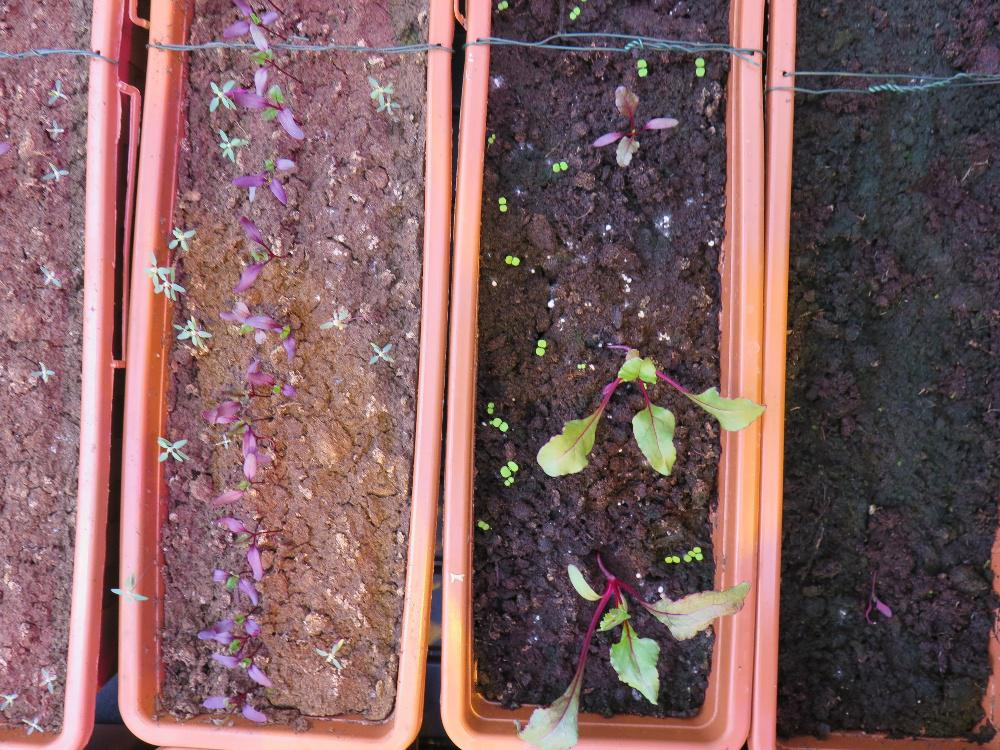weed: (105, 568, 149, 603), (216, 125, 249, 167), (153, 433, 191, 466), (312, 636, 346, 671), (165, 221, 197, 253), (40, 75, 69, 105), (317, 304, 349, 331), (38, 156, 70, 183), (33, 662, 58, 694), (365, 339, 393, 366), (25, 359, 55, 383), (37, 261, 62, 288), (18, 713, 43, 739), (41, 117, 65, 140), (635, 55, 648, 78), (534, 336, 547, 358), (693, 54, 705, 77), (550, 158, 567, 173), (502, 253, 520, 267), (568, 3, 580, 20), (496, 195, 507, 213), (662, 554, 680, 565), (474, 517, 489, 530), (495, 0, 507, 12), (485, 131, 495, 145), (574, 359, 586, 370), (486, 399, 494, 414)
